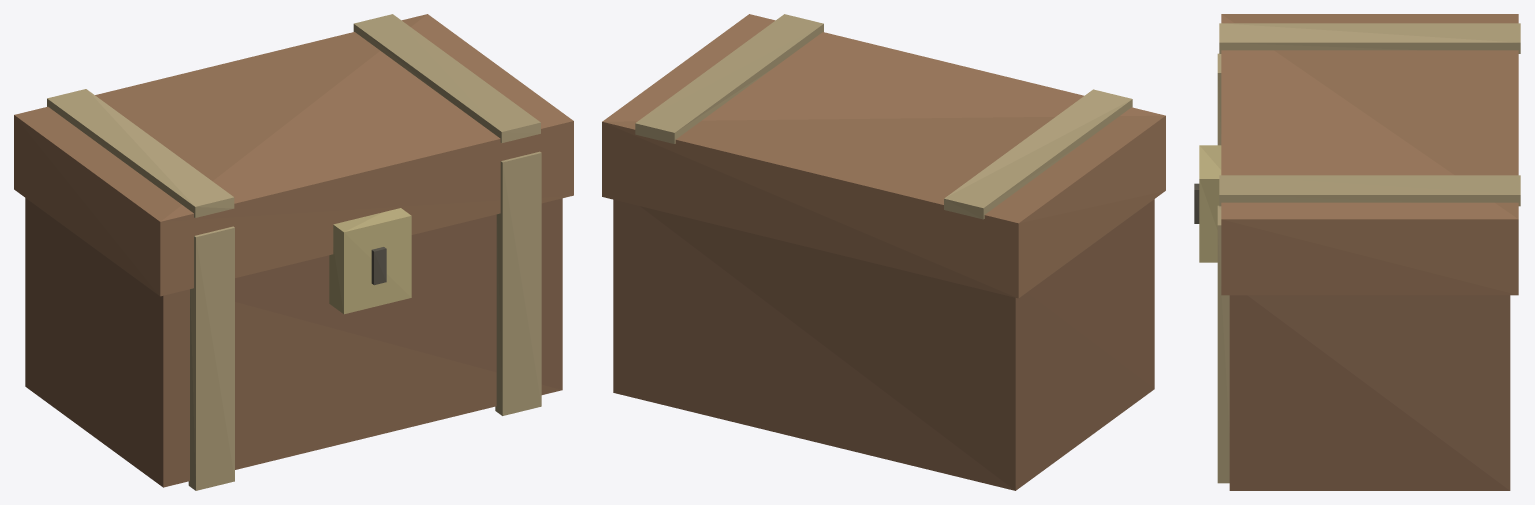
Rendered from chest.glb.
3 views of the same model, side by side, from view 1: azimuth 30°, elevation 25°; view 2: azimuth 150°, elevation 25°; view 3: azimuth 270°, elevation 25° (orthographic).
Parts seen in each view (by area): view 1: lid, body, band_front_0.43, band_front_-0.43, band_top_0.43, band_top_-0.43, lock; view 2: body, lid, band_top_-0.43, band_top_0.43; view 3: lid, body, band_top_0.43, band_top_-0.43, band_front_0.43, lock, band_front_-0.43.
Part boxes in pixels (x1,y1,x2,y2): lid: (14,14,573,296); body: (25,198,562,487); band_front_0.43: (495,151,541,415); band_front_-0.43: (188,226,234,490); band_top_0.43: (353,14,540,142); band_top_-0.43: (47,89,234,217); lock: (329,208,411,314); body: (613,199,1154,490); lid: (602,14,1165,298); band_top_-0.43: (944,89,1132,219); band_top_0.43: (635,14,823,143); lid: (1221,14,1518,295); body: (1229,295,1510,490); band_top_0.43: (1219,175,1520,206); band_top_-0.43: (1219,23,1520,53); band_front_0.43: (1217,205,1229,483); lock: (1199,145,1221,262); band_front_-0.43: (1217,53,1221,145).
Size of the model in its own units: 1.16 by 0.76 by 0.7795.
